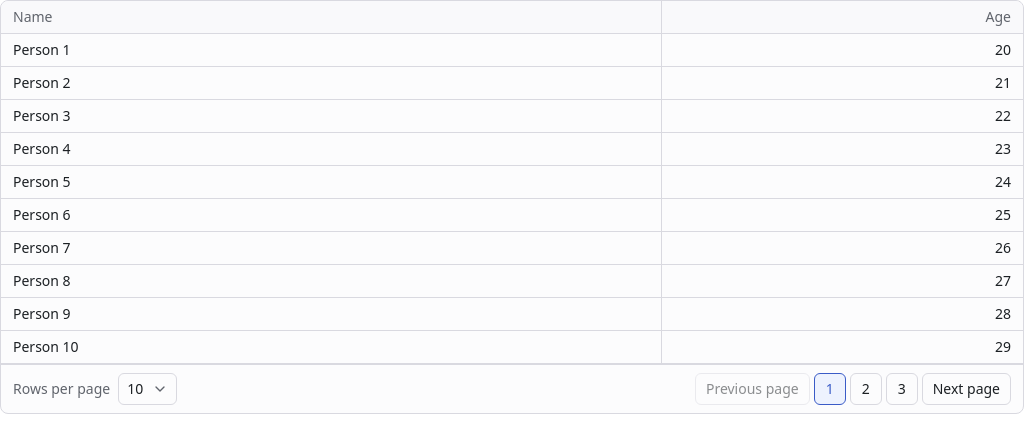
it: Table pagination › disables Previous on the first page and Next on the last
Expected: the text "Person 1" is shown, top-left (1, 34), bottom-right (662, 67)
Expected: the button "Previous page" is disabled, top-left (695, 373), bottom-right (810, 405)
Click the button named "Page 3": (902, 389) top-left (886, 373), bottom-right (918, 405)
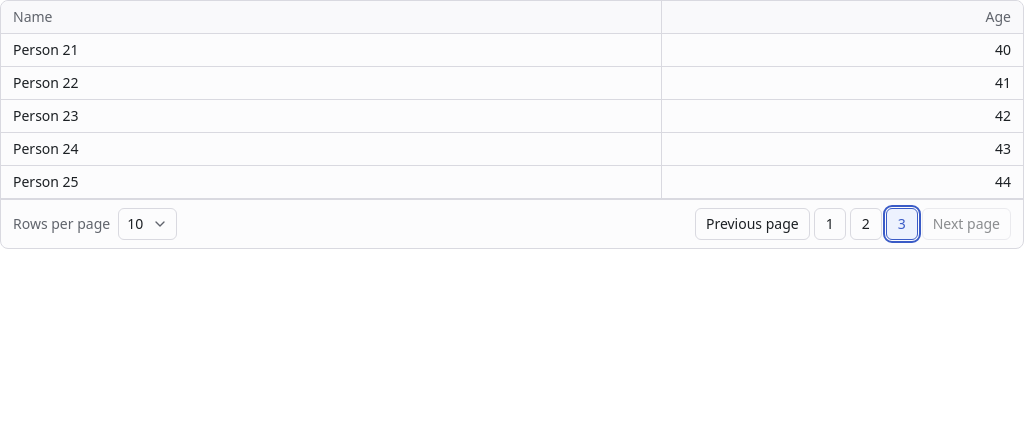
Now the text "Person 21" is shown, box top-left (1, 34), bottom-right (662, 67)
Now the button "Next page" is disabled, box top-left (922, 208), bottom-right (1011, 240)
Now the button "Previous page" is enabled, box top-left (695, 208), bottom-right (810, 240)
